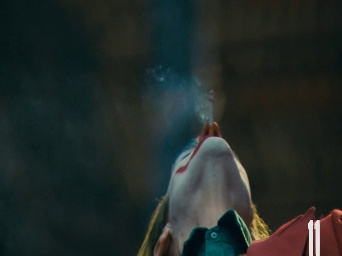smoke: (207, 89, 213, 140)
